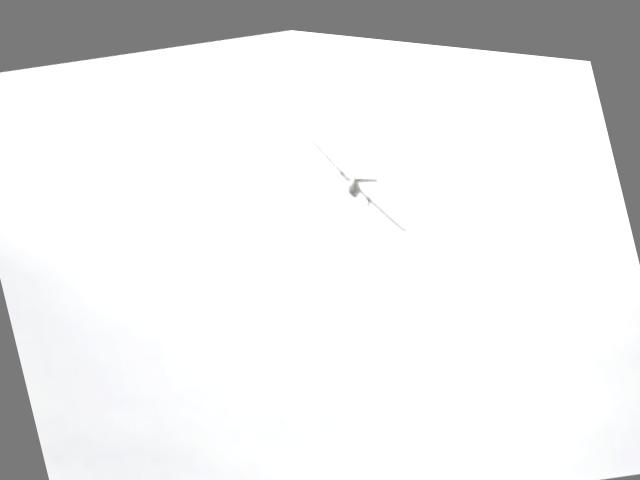uav: (296, 95, 418, 250)
